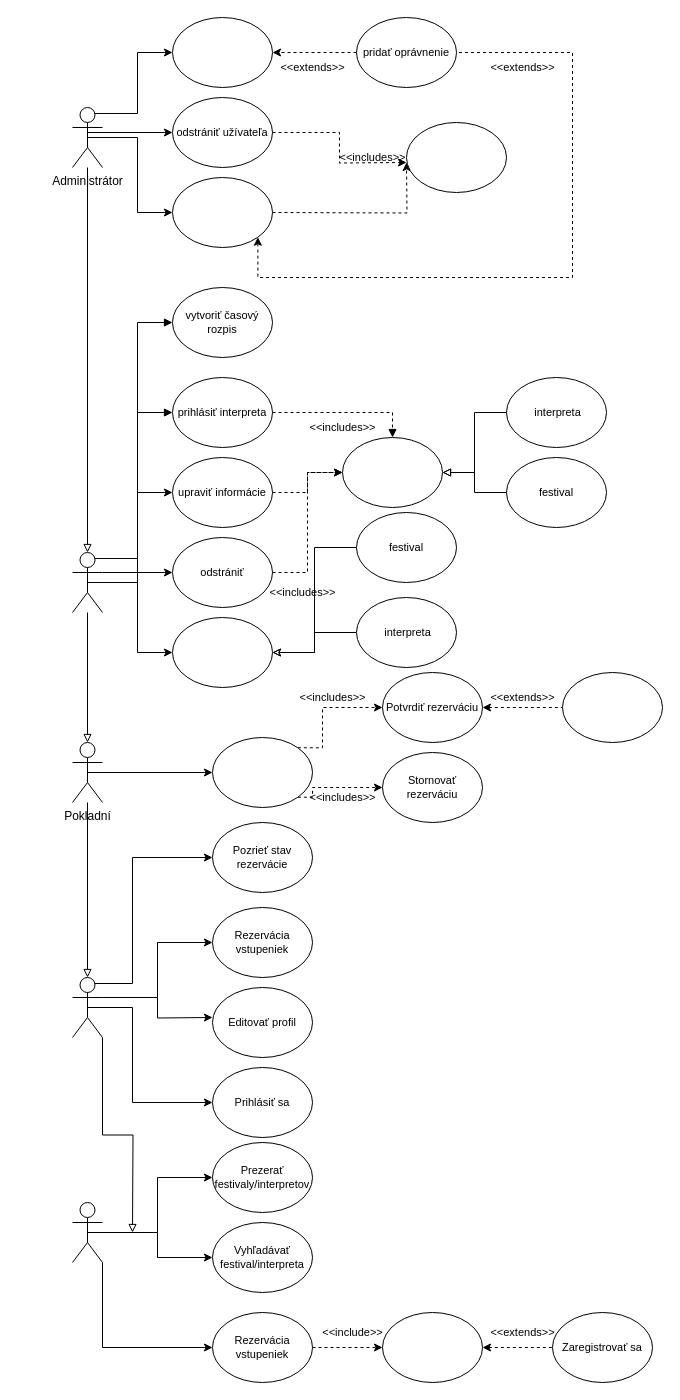
The diagram is 680 pixels wide and 1400 high, and some of its shapes have lost their labels. The centre of each missing label's shape, as x and y in pixels:
"Divák" goes at [87,1007].
"Neregistrovaný návštevník" goes at [87,1232].
"Pořadatel" goes at [87,582].
"pridať" goes at [222,652].
"pridať užívateľa" goes at [222,52].
"Spravovať rezervácie" goes at [262,772].
"upraviť užívateľa" goes at [222,212].
"Vydať vstupenky" goes at [612,707].
"vyhľadať" goes at [392,472].
"vyhľadať užívateľa" goes at [456,157].
"Zadať údaje" goes at [432,1347].
